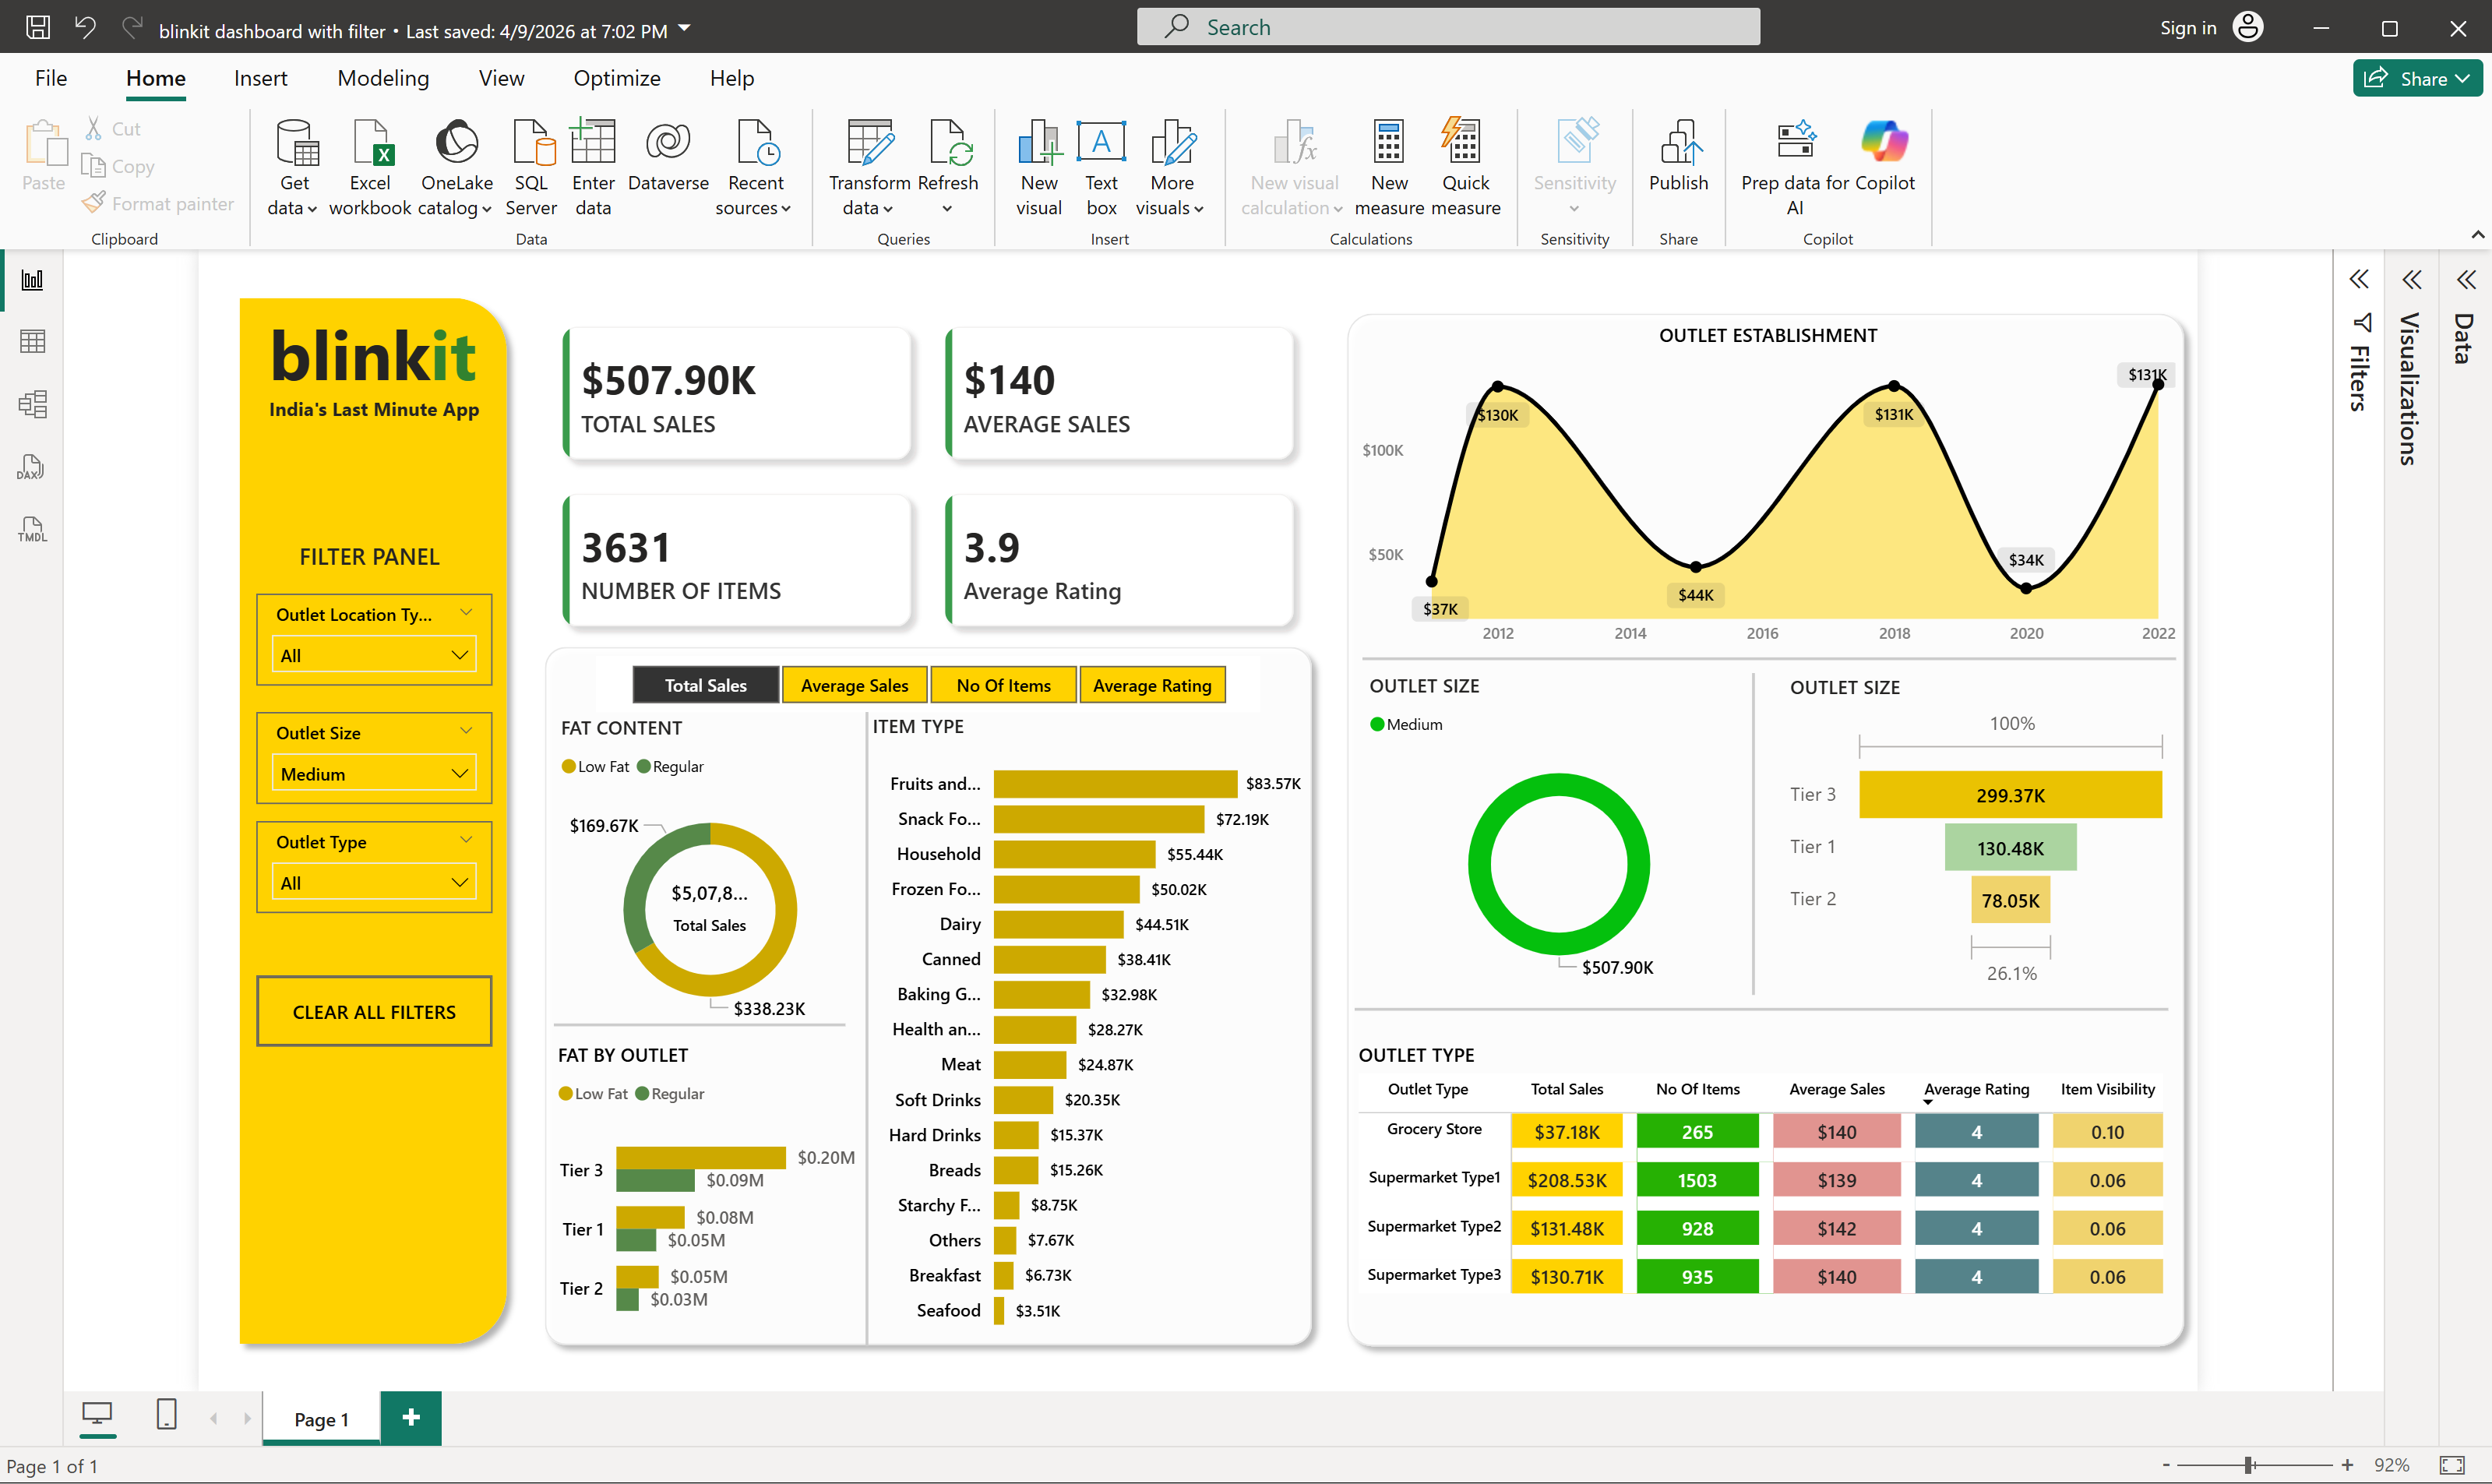

What the dashboard file says about the page in this screenshot:
{"tool":"powerbi","page":{"name":"Page 1","canvas":[1400,800],"ordinal":0},"visuals":[{"type":"shape","box":[19.7,25.3,205.2,750.6],"z":0},{"type":"textbox","box":[35.1,35.1,174.3,77.3],"z":1},{"type":"textbox","box":[35.7,97.1,174.3,30],"z":2},{"type":"cardVisual","fields":{"Data":["BlinkIT Grocery Data.Total Sales","BlinkIT Grocery Data.Average Sales","BlinkIT Grocery Data.No Of Items","BlinkIT Grocery Data.Average Rating"]},"box":[226.3,25.3,570.7,269.9],"z":3},{"type":"shape","box":[233.3,269.9,555.2,507],"z":4},{"type":"donutChart","title":"FAT CONTENT","fields":{"Category":["BlinkIT Grocery Data.Item Fat Content"],"Y":["BlinkIT Grocery Data.Total Sales"]},"box":[248.8,324.7,219.3,230.5],"z":5},{"type":"slicer","fields":{"Values":["Matrics.Matrics"]},"box":[278.3,285.3,465.3,39.4],"z":6},{"type":"card","fields":{"Values":["BlinkIT Grocery Data.Total Sales"]},"box":[322.9,430,70,60],"z":8},{"type":"clusteredBarChart","title":"FAT BY OUTLET","fields":{"Category":["BlinkIT Grocery Data.Outlet Location Type"],"Series":["BlinkIT Grocery Data.Item Fat Content"],"Y":["BlinkIT Grocery Data.Total Sales"]},"box":[247.1,554.3,220,212.9],"z":9},{"type":"shape","box":[248.6,532.9,204.3,21.4],"z":10},{"type":"shape","box":[447.1,324.3,41.4,444.3],"z":11},{"type":"barChart","title":"ITEM TYPE","fields":{"Y":["BlinkIT Grocery Data.Total Sales"],"Category":["BlinkIT Grocery Data.Item Type"]},"box":[467.1,324.3,310,444.3],"z":12},{"type":"shape","box":[795.7,35.7,604.3,741.4],"z":13},{"type":"lineChart","title":"OUTLET ESTABLISHMENT","fields":{"Y":["BlinkIT Grocery Data.Total Sales"],"Category":["BlinkIT Grocery Data.Outlet Establishment Year"]},"box":[810,50,580,235.7],"z":14},{"type":"shape","box":[815.7,275.7,570,21.4],"z":15},{"type":"donutChart","title":"OUTLET SIZE","fields":{"Y":["BlinkIT Grocery Data.Total Sales"],"Category":["BlinkIT Grocery Data.Outlet Size"]},"box":[815.7,295.7,275.7,225.7],"z":16},{"type":"funnel","title":"OUTLET SIZE","fields":{"Y":["Sum(BlinkIT Grocery Data.Sales)"],"Category":["BlinkIT Grocery Data.Outlet Location Type"]},"box":[1110,297.1,275.7,225.7],"z":17},{"type":"shape","box":[810,521.4,570,21.4],"z":18},{"type":"slicer","fields":{"Values":["BlinkIT Grocery Data.Outlet Location Type"]},"box":[40,241.4,165.7,64.3],"z":19},{"type":"slicer","fields":{"Values":["BlinkIT Grocery Data.Outlet Size"]},"box":[40,324.3,165.7,64.3],"z":20},{"type":"slicer","fields":{"Values":["BlinkIT Grocery Data.Outlet Type"]},"box":[40,400,165.7,64.3],"z":21},{"type":"textbox","box":[65.7,198.6,112.9,42.9],"z":22},{"type":"pivotTable","title":"OUTLET TYPE","fields":{"Rows":["BlinkIT Grocery Data.Outlet Type"],"Values":["BlinkIT Grocery Data.Total Sales","BlinkIT Grocery Data.No Of Items","BlinkIT Grocery Data.Average Sales","BlinkIT Grocery Data.Average Rating","Avg(BlinkIT Grocery Data.Item Visibility)"]},"box":[807.1,554.3,575.7,222.9],"z":23},{"type":"shape","box":[1068.6,297.1,41.4,225.7],"z":24},{"type":"actionButton","title":"cLEAR","box":[40,508.6,165.7,50],"z":25}]}

Visuals, with their boxes on the page's 1400x800 design canvas (x1, y1, x2, y2). These are canvas units, not pixel positions in the 2492x1484 screenshot, which may show the page scaled, cropped or inside an application window:
shape: left=20, top=25, right=225, bottom=776
textbox: left=35, top=35, right=209, bottom=112
textbox: left=36, top=97, right=210, bottom=127
cardVisual - BlinkIT Grocery Data.Total Sales x BlinkIT Grocery Data.Average Sales: left=226, top=25, right=797, bottom=295
shape: left=233, top=270, right=788, bottom=777
"FAT CONTENT" donutChart: left=249, top=325, right=468, bottom=555
slicer - Matrics.Matrics: left=278, top=285, right=744, bottom=325
card - BlinkIT Grocery Data.Total Sales: left=323, top=430, right=393, bottom=490
"FAT BY OUTLET" clusteredBarChart: left=247, top=554, right=467, bottom=767
shape: left=249, top=533, right=453, bottom=554
shape: left=447, top=324, right=488, bottom=769
"ITEM TYPE" barChart: left=467, top=324, right=777, bottom=769
shape: left=796, top=36, right=1400, bottom=777
"OUTLET ESTABLISHMENT" lineChart: left=810, top=50, right=1390, bottom=286
shape: left=816, top=276, right=1386, bottom=297
"OUTLET SIZE" donutChart: left=816, top=296, right=1091, bottom=521
"OUTLET SIZE" funnel: left=1110, top=297, right=1386, bottom=523
shape: left=810, top=521, right=1380, bottom=543
slicer - BlinkIT Grocery Data.Outlet Location Type: left=40, top=241, right=206, bottom=306
slicer - BlinkIT Grocery Data.Outlet Size: left=40, top=324, right=206, bottom=389
slicer - BlinkIT Grocery Data.Outlet Type: left=40, top=400, right=206, bottom=464
textbox: left=66, top=199, right=179, bottom=242
"OUTLET TYPE" pivotTable: left=807, top=554, right=1383, bottom=777
shape: left=1069, top=297, right=1110, bottom=523
"cLEAR" actionButton: left=40, top=509, right=206, bottom=559
